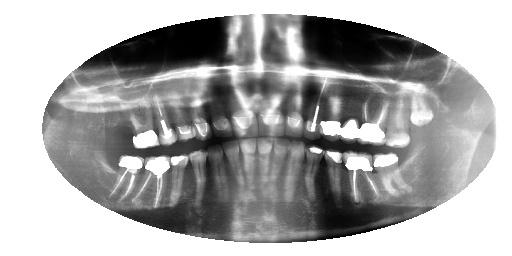Fillings: (374, 150, 406, 203), (129, 106, 159, 152), (170, 151, 190, 206), (320, 85, 339, 137), (325, 148, 342, 203), (340, 87, 357, 141)
Implant: (343, 150, 373, 202), (360, 90, 385, 147), (143, 154, 169, 205), (115, 153, 140, 204), (156, 102, 176, 145)
